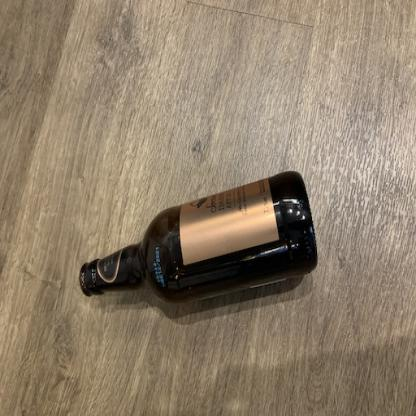trash: (81, 171, 318, 307)
